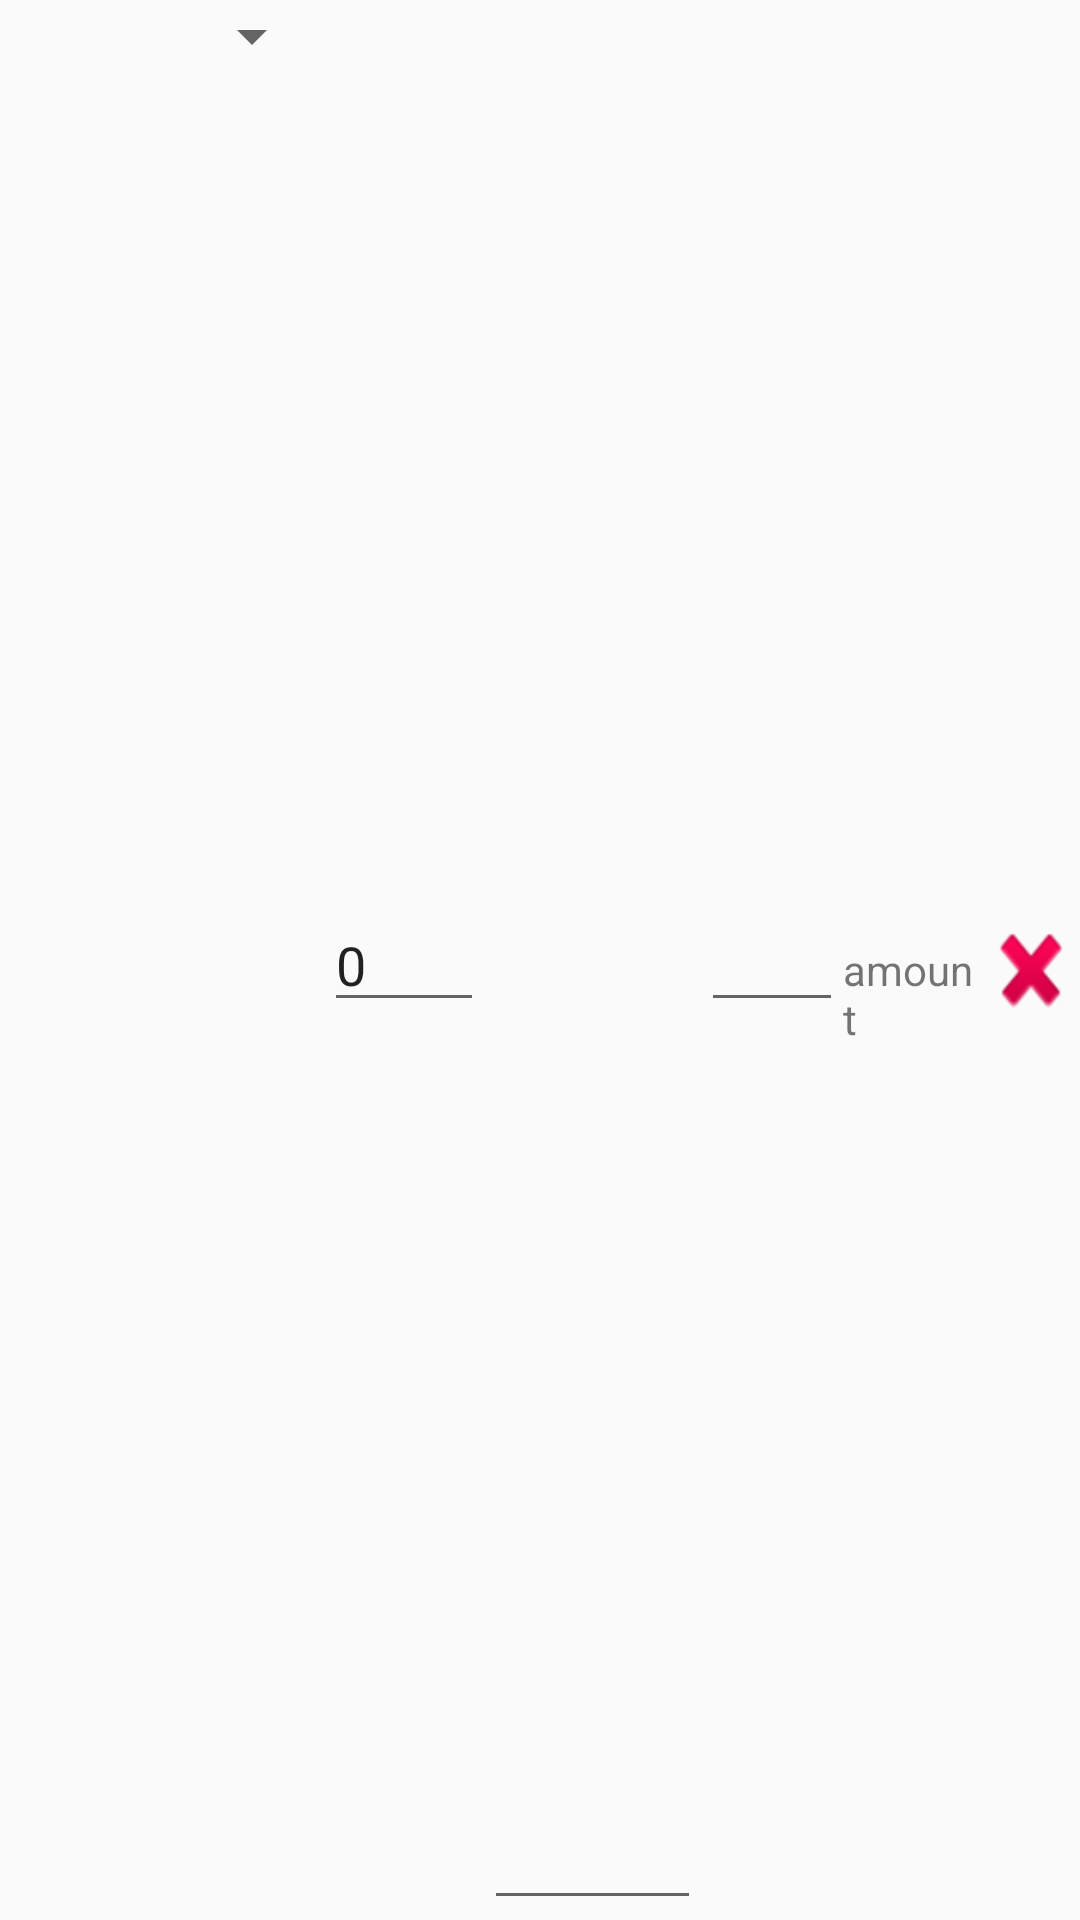

Screen size 1080x1920. Icon name, then its center in pixels as [x,y]:
delete: [1031,971]
